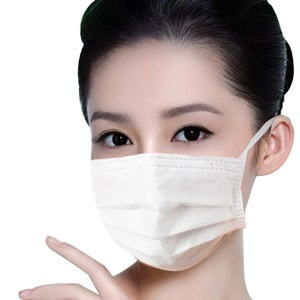face_mask: (83, 45, 254, 271)
